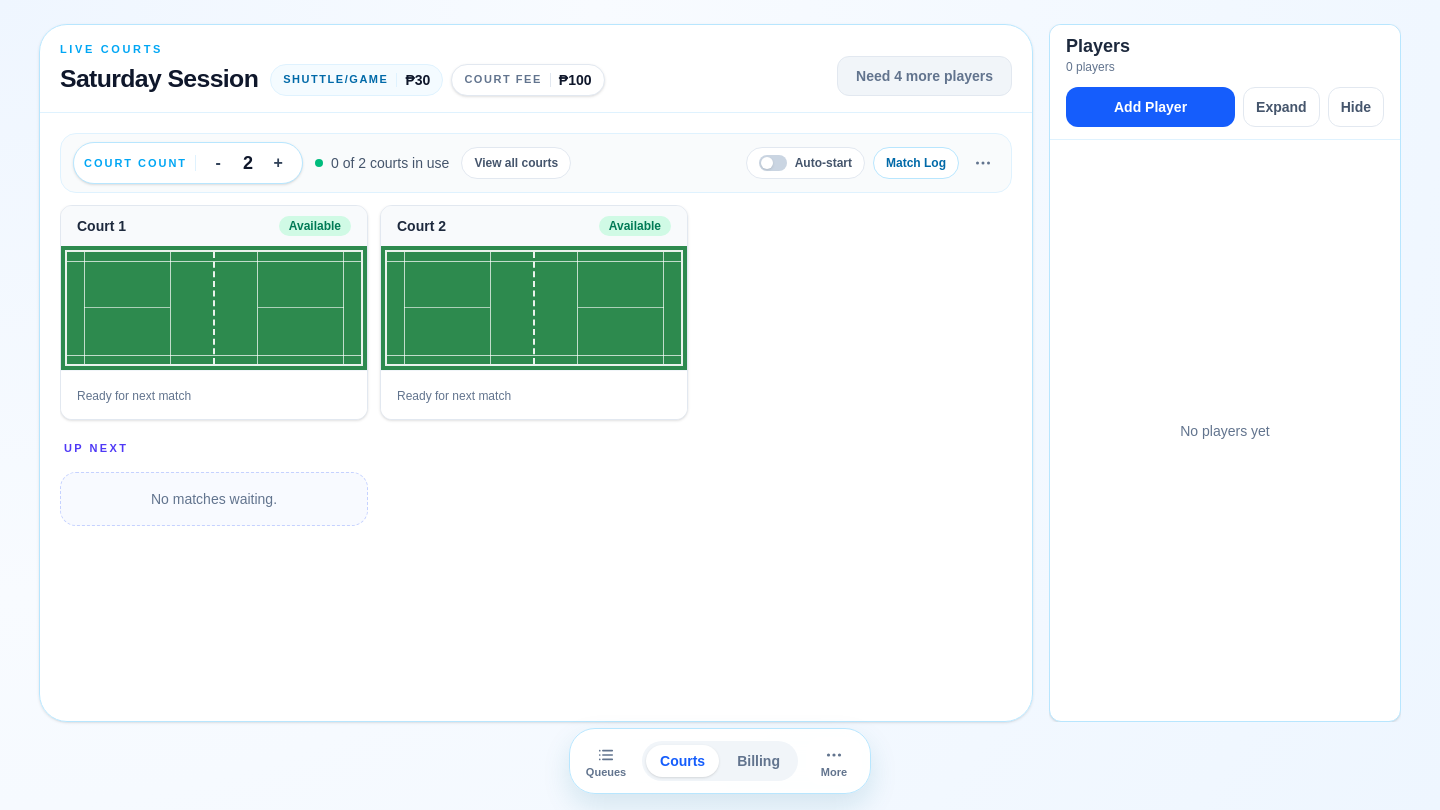
it: Billing tab › undoes the latest payment after confirming
Click the button "Billing": (759, 761) [723,745,794,777]
(page scrolled)
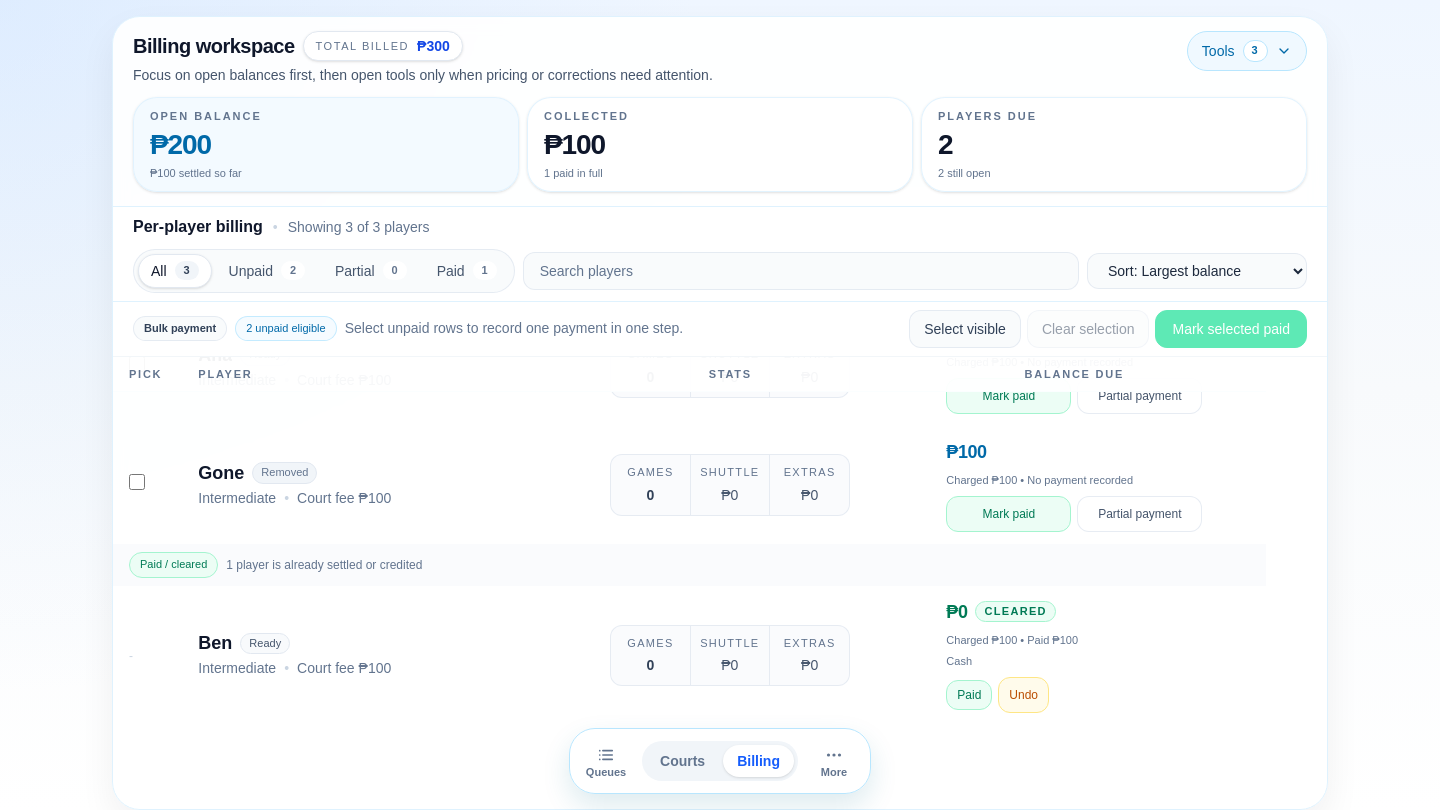
Expected: the heading "Billing workspace" is shown, [133,32,295,60]
Click the button with aria-label "Undo Ben's last payment": (1024, 695) [998,677,1049,713]
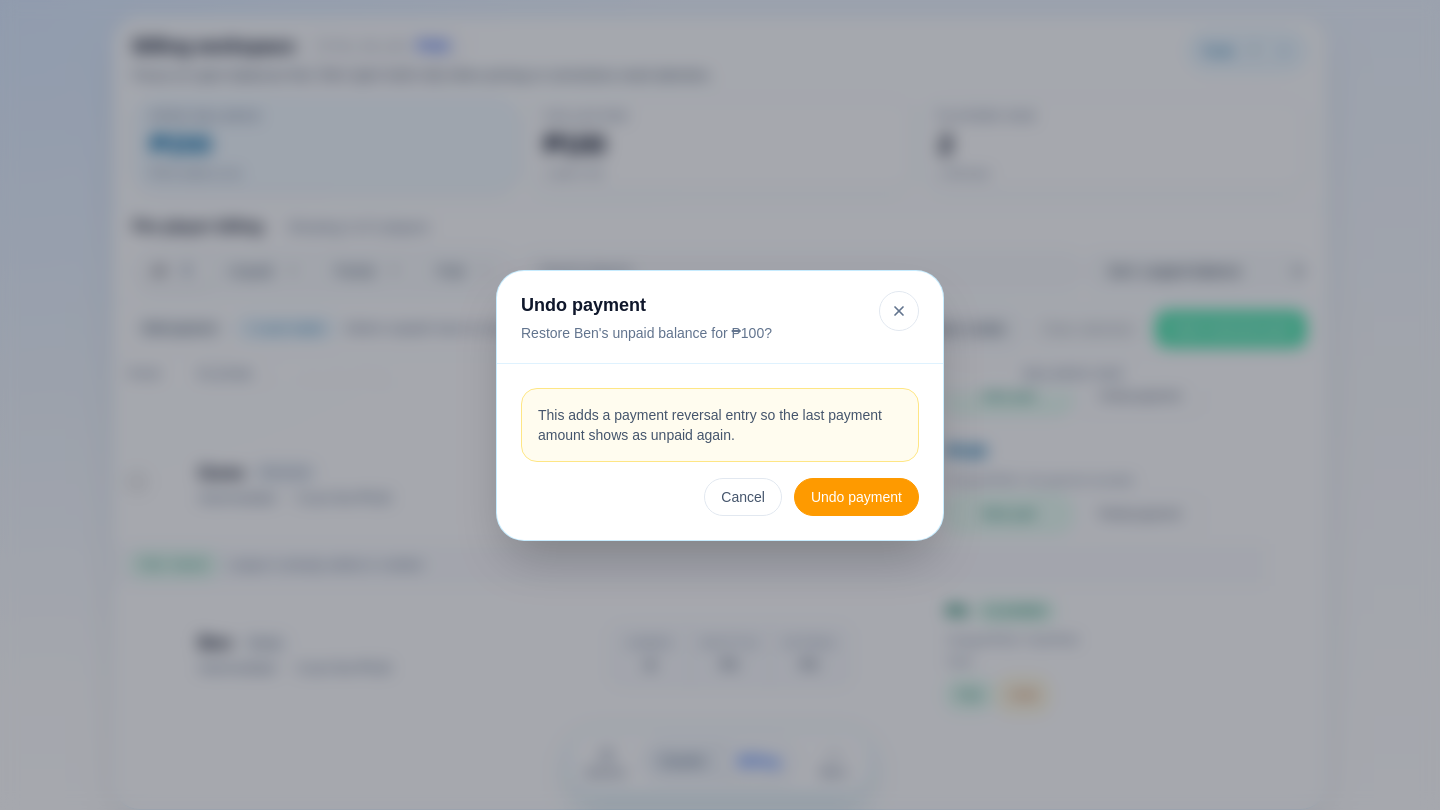
Expected: the text "Restore Ben's unpaid balance for ₱100?" is shown, [521,324,772,340]
Click the button "Undo payment": (856, 496) [794,478,919,516]
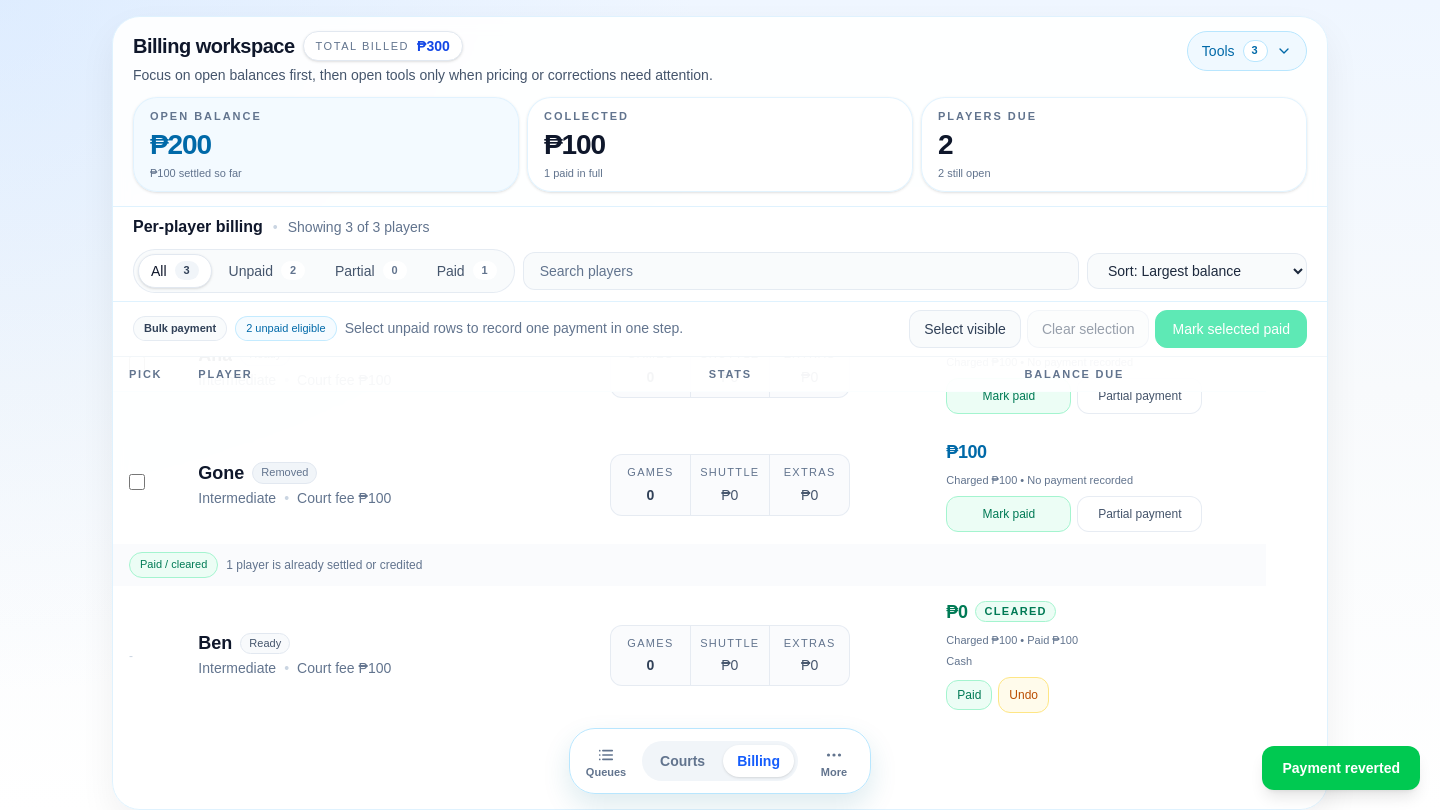
Expected: the text "Payment reverted" is shown, [1282,758,1400,778]
